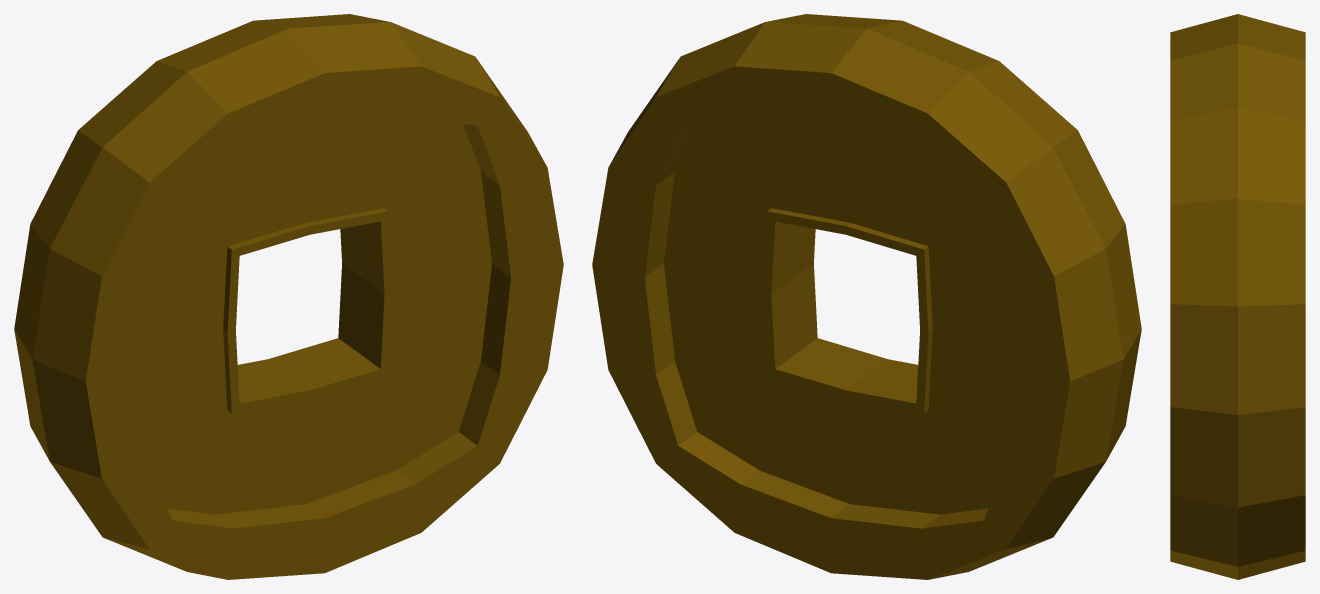
The model's file is coin.obj.
3 renders of one model, left to right at view 1: azimuth 30°, elevation 25°; view 2: azimuth 150°, elevation 25°; view 3: azimuth 270°, elevation 25°, orthographic. The views are drawn at different scales.
Parts seen in each view (by area): view 1: Cube; view 2: Cube; view 3: Cube.
Part boxes in pixels (<box>): Cube: <box>14,14,563,579</box>; Cube: <box>592,14,1141,579</box>; Cube: <box>1170,14,1305,579</box>.
Bounding box in the file's own units: 1.02 × 1.02 × 0.2475.
